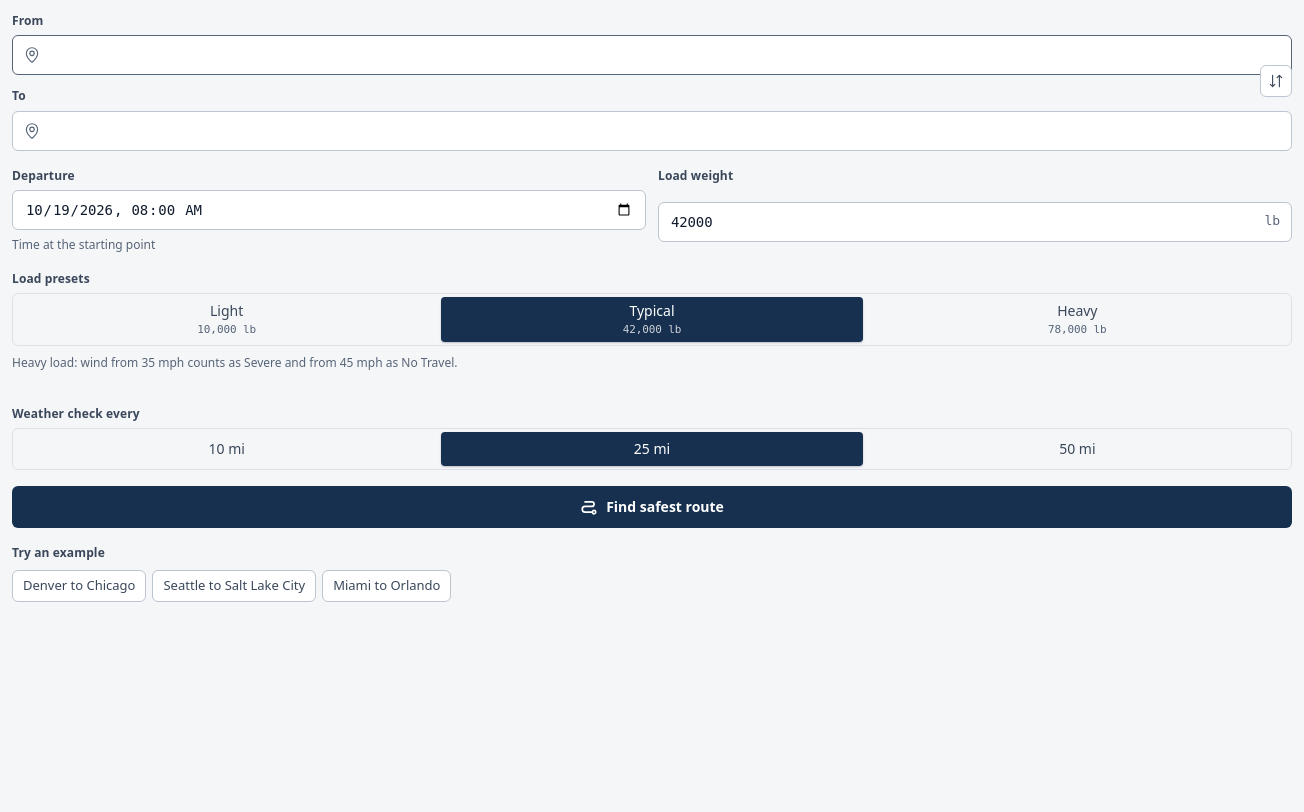
Test: TripForm › swaps the start and destination
This screenshot has width=1304, height=812.
Click the button "Denver to Chicago": (79, 586) [12,570,146,602]
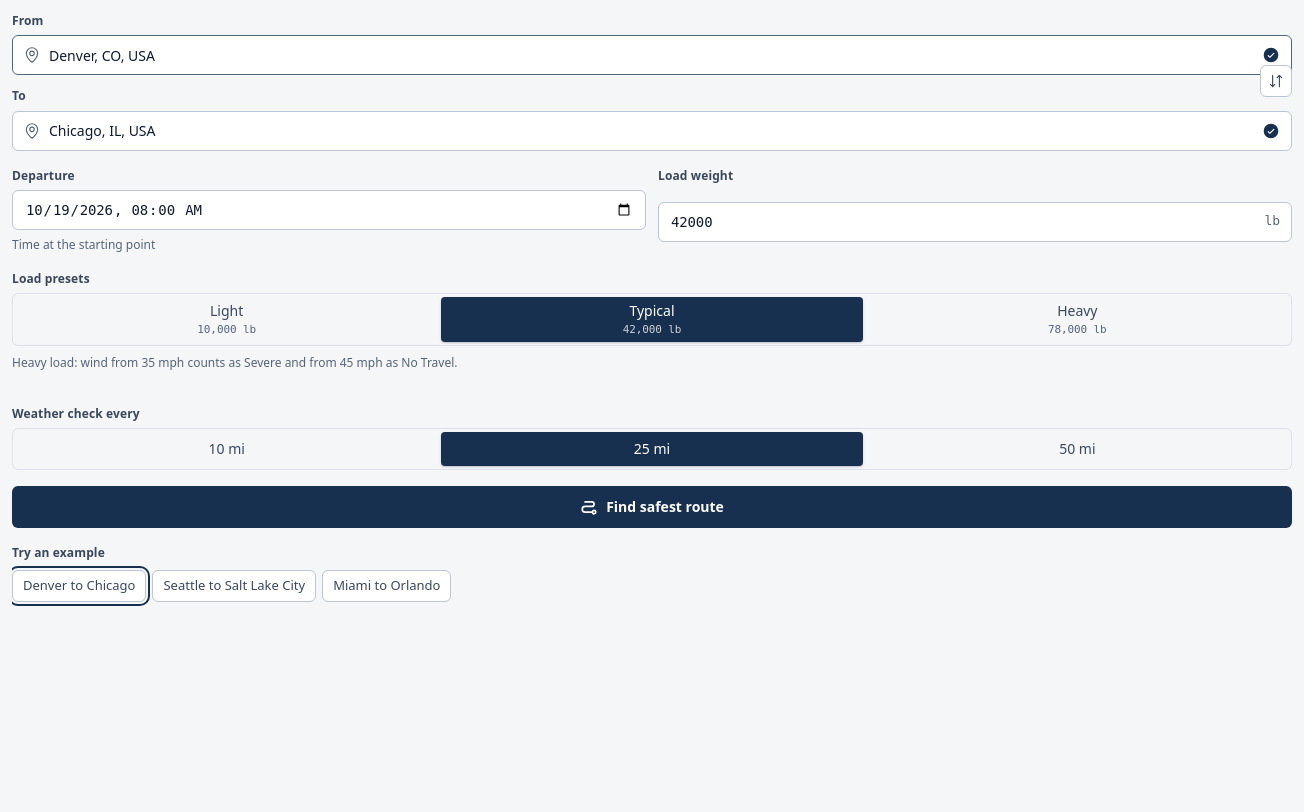
Click the button named "swap start and destination": (1276, 81) [1260,65,1292,97]
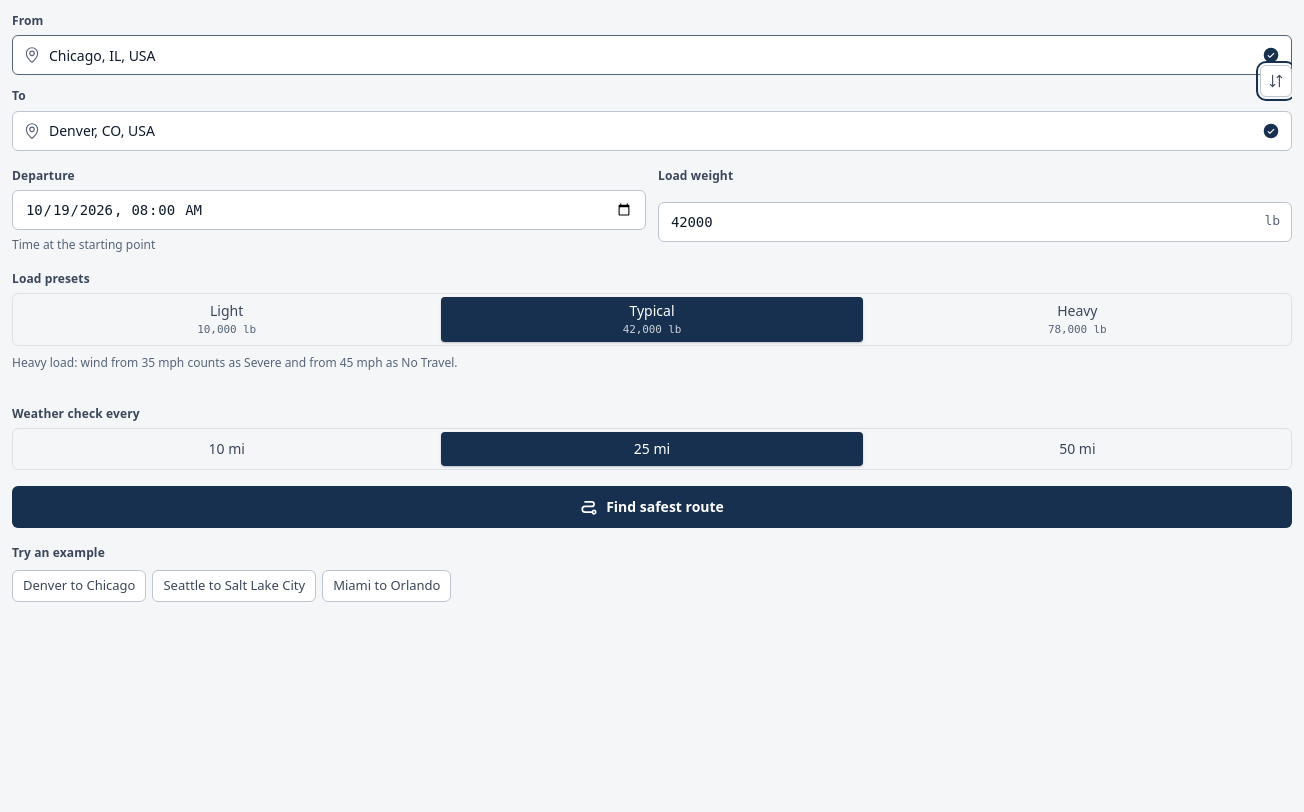
Expected: the dropdown labelled "From" holds "Chicago, IL, USA", [12,35,1292,75]
Expected: the dropdown labelled "To" holds "Denver, CO, USA", [12,111,1292,151]
